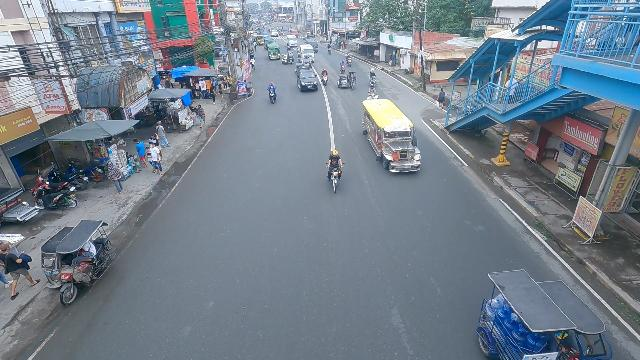car: (296, 67, 320, 92), (290, 29, 299, 37), (271, 28, 278, 37)
jeepney: (361, 98, 422, 174), (267, 43, 281, 60), (263, 37, 277, 51), (255, 35, 265, 45)
motorcycle: (324, 150, 346, 196), (267, 80, 278, 105), (320, 66, 329, 87), (369, 69, 378, 89), (339, 60, 346, 74), (346, 54, 352, 66), (327, 42, 332, 53), (286, 42, 291, 52), (296, 47, 300, 58)
van: (298, 44, 315, 63), (286, 35, 298, 47), (307, 40, 318, 53)
